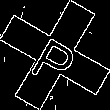P_NE: (26, 24, 84, 86)
